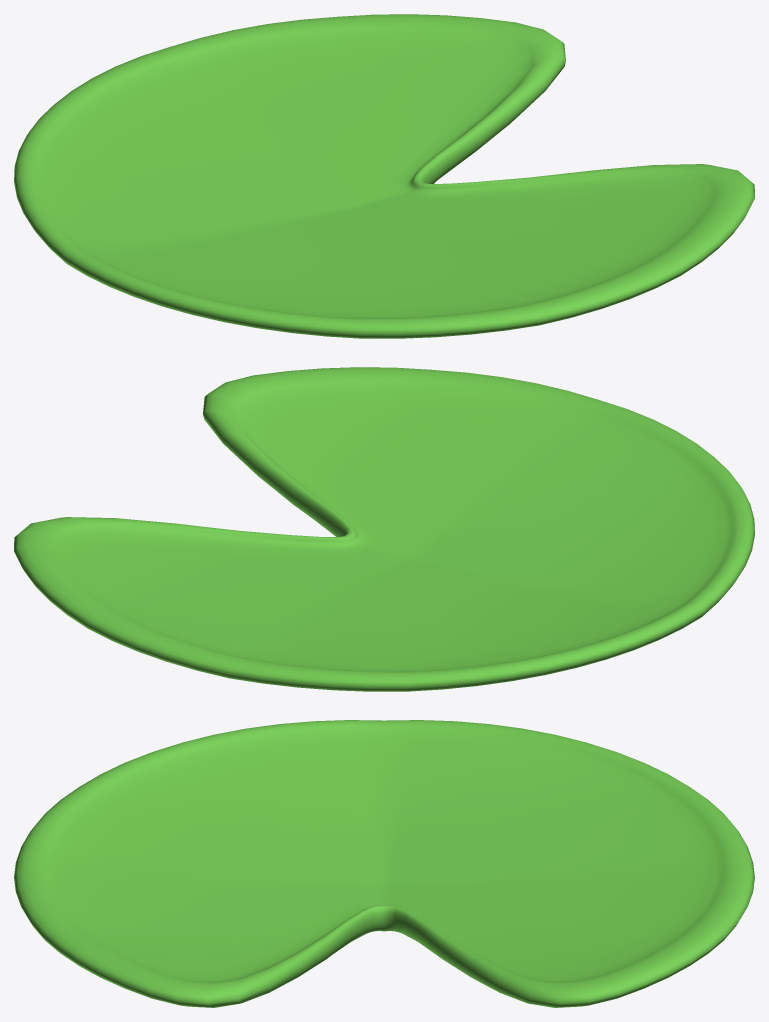
The model's file is Green_Lilypad_Model.fbx.
The picture shows the model from 3 angles, top to bottom: view 1: azimuth 30°, elevation 25°; view 2: azimuth 150°, elevation 25°; view 3: azimuth 270°, elevation 25°; orthographic projection.
Parts seen in each view (by area): view 1: Pad; view 2: Pad; view 3: Pad.
Part boxes in pixels (x1,y1,x2,y2): Pad: (14, 14, 754, 338); Pad: (14, 367, 754, 691); Pad: (14, 720, 754, 1007).
Bounding box in the file's own units: 4.86 × 0.4226 × 5.33.
